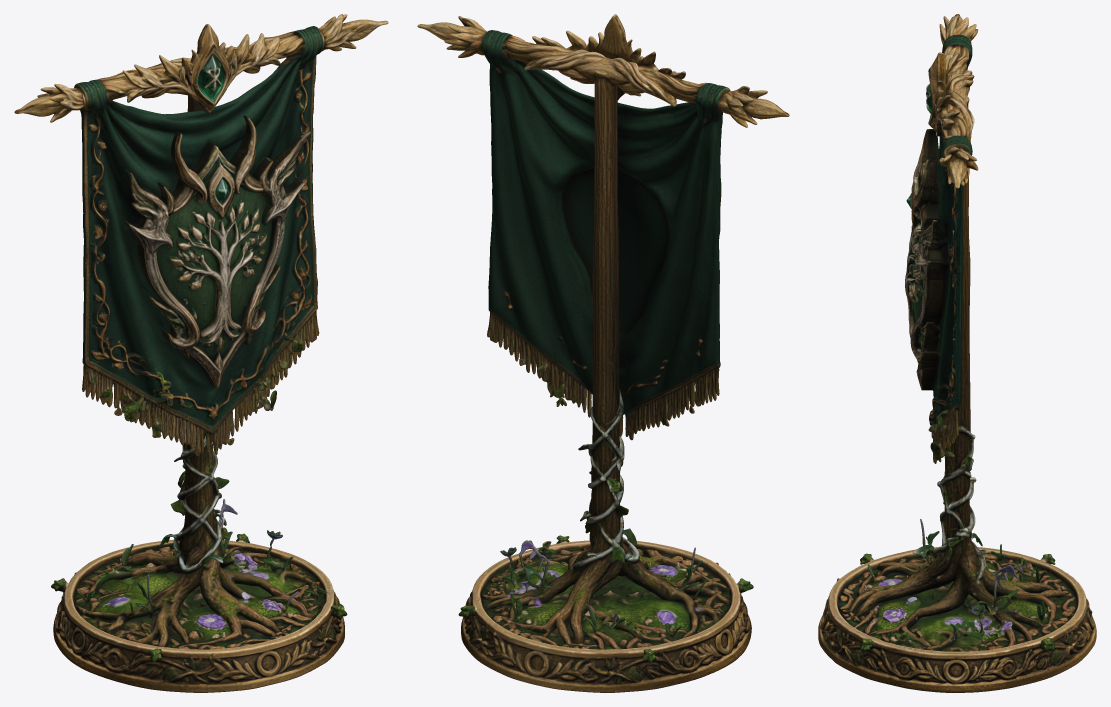
File: Армия без генерала эльфы.glb
The picture shows the model from 3 angles, left to right: view 1: azimuth 30°, elevation 25°; view 2: azimuth 150°, elevation 25°; view 3: azimuth 270°, elevation 25°; orthographic projection. The views are drawn at different scales.
Parts seen in each view (by area): view 1: tripo_node_21f91f27-b96e-4c7b-a5b1-ee067e166faa; view 2: tripo_node_21f91f27-b96e-4c7b-a5b1-ee067e166faa; view 3: tripo_node_21f91f27-b96e-4c7b-a5b1-ee067e166faa.
Part boxes in pixels (box(x1,y1,x2,y2)): tripo_node_21f91f27-b96e-4c7b-a5b1-ee067e166faa: box(14, 14, 388, 692); tripo_node_21f91f27-b96e-4c7b-a5b1-ee067e166faa: box(417, 14, 789, 692); tripo_node_21f91f27-b96e-4c7b-a5b1-ee067e166faa: box(818, 14, 1096, 692).
Size of the model in its own units: 0.6368 by 1 by 0.4337.
1 material, 1 textured.
